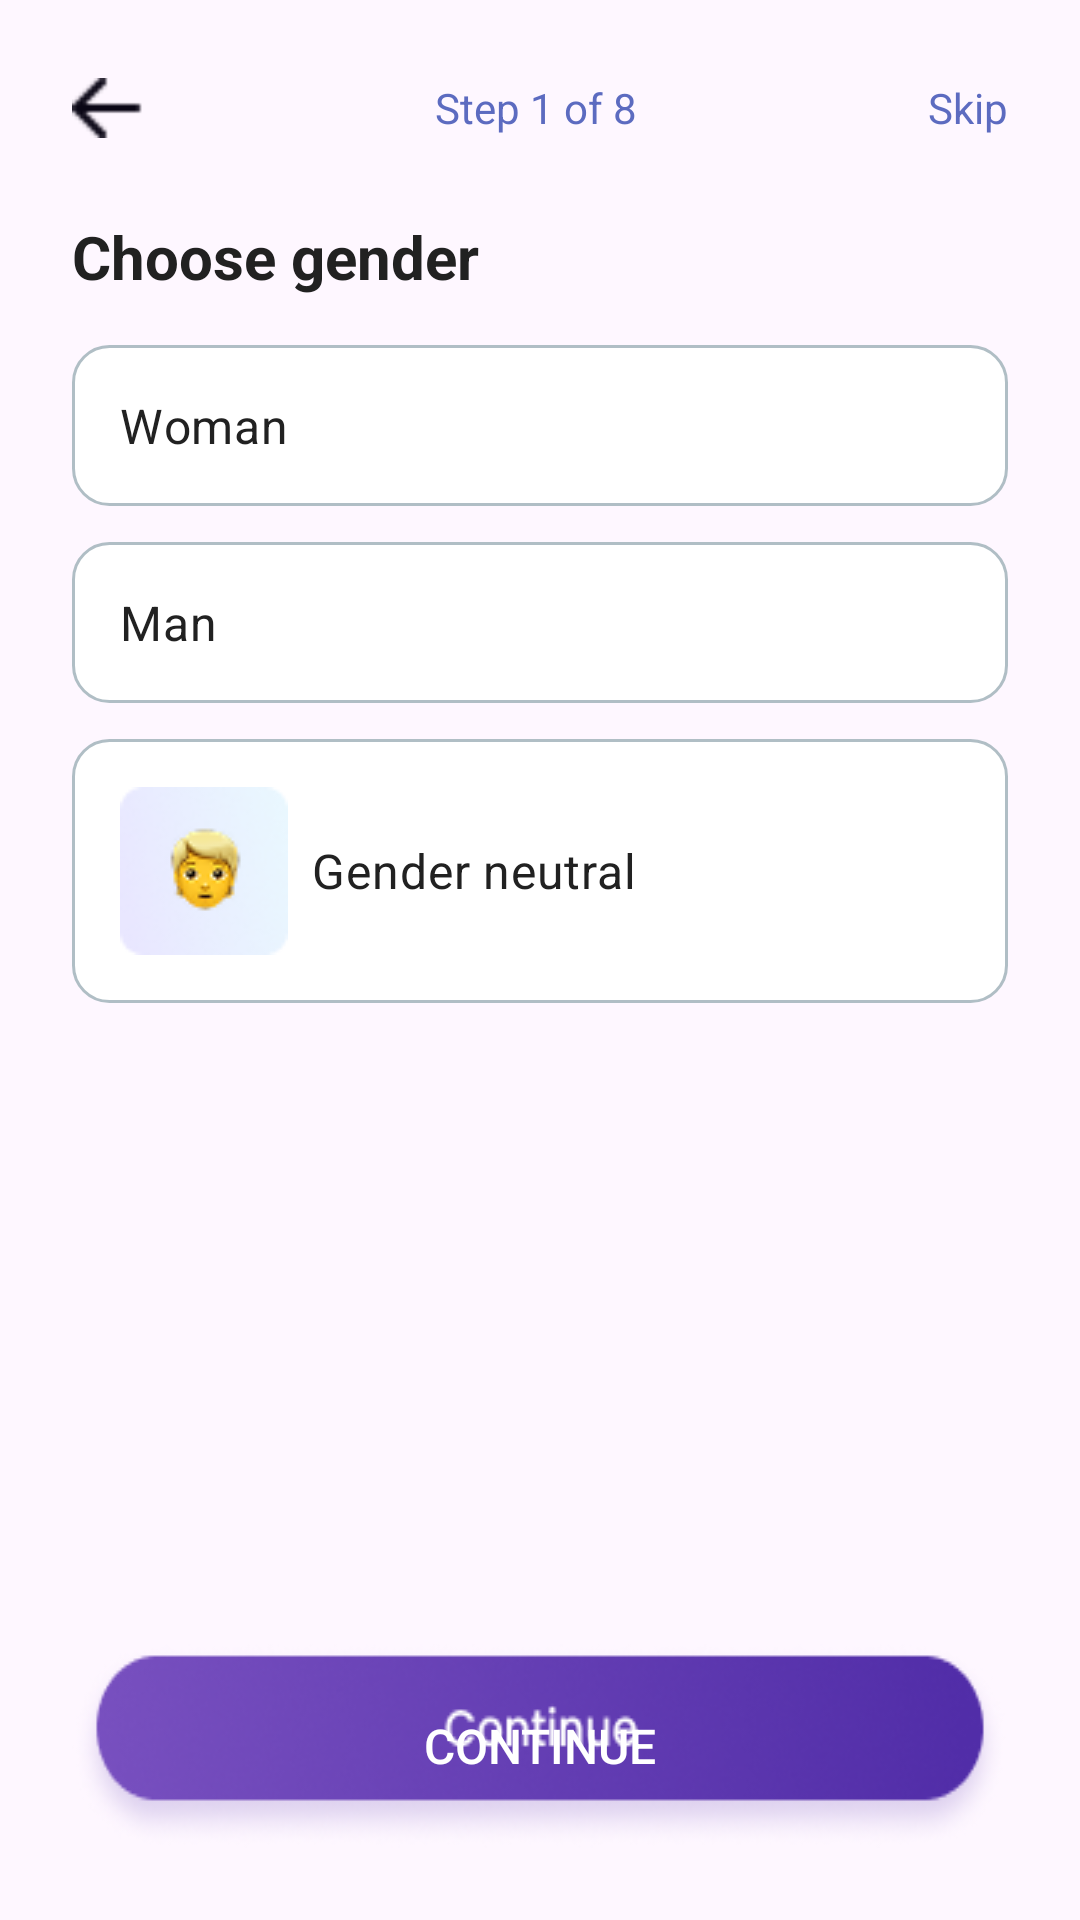

Named icons in this screenshot (1080*1920) and their centers, (x,y):
Back: (107,108)
